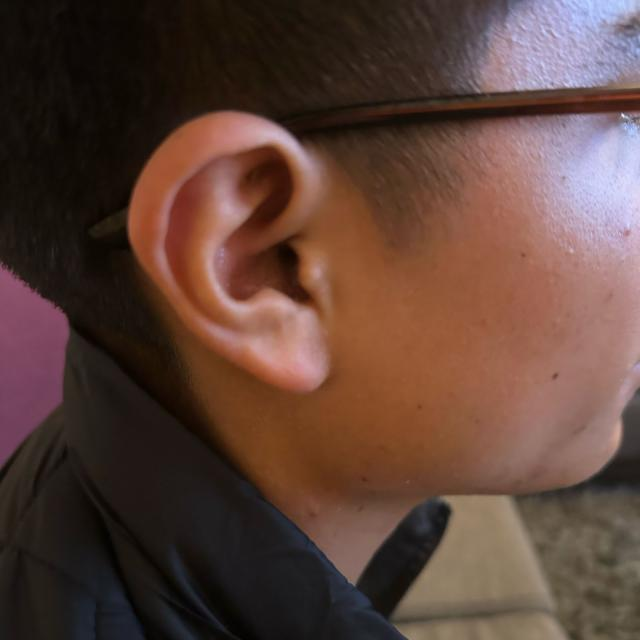ear: (129, 111, 356, 392)
